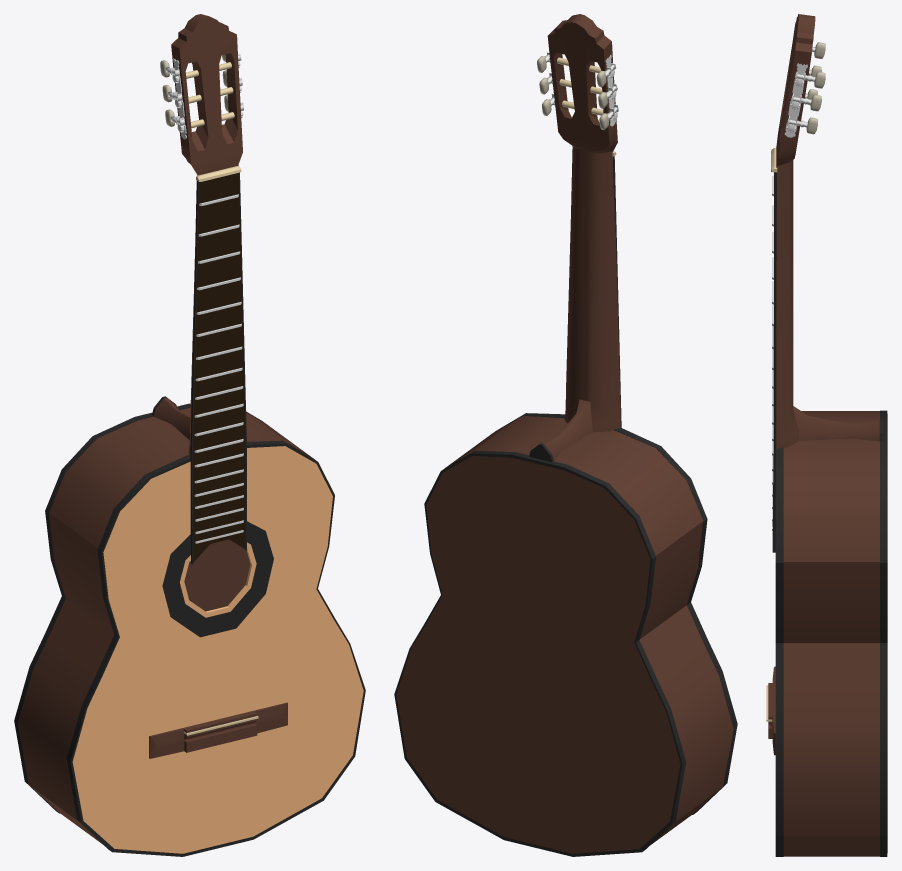
File: guitar.glb
The picture shows the model from 3 angles, left to right: view 1: azimuth 30°, elevation 25°; view 2: azimuth 150°, elevation 25°; view 3: azimuth 270°, elevation 25°; orthographic projection. The views are drawn at different scales.
Visible parts, largest first — view 1: soundBoard.001, side.001, touch.001, neck.001, frontSeal.001, rose.001, back.001, bridge.001, frets.001, backSeal.001, seal.001; view 2: back.001, side.001, neck.001, backSeal.001, frontSeal.001; view 3: side.001, neck.001, frontSeal.001, backSeal.001, seal.001, frets.001, bridge.001, Plane.001, back.001, Cube.001, Cube.002, Cube.003.
Boxes of the visible parts, x1,y1,x2,y2 form: soundBoard.001: (72, 446, 363, 853); side.001: (18, 407, 312, 844); touch.001: (192, 173, 245, 561); neck.001: (153, 14, 242, 457); frontSeal.001: (66, 440, 365, 856); rose.001: (162, 521, 273, 637); back.001: (184, 539, 250, 611); bridge.001: (149, 702, 287, 758); frets.001: (194, 194, 243, 543); backSeal.001: (14, 403, 262, 813); seal.001: (190, 172, 246, 564); back.001: (396, 455, 680, 853); side.001: (445, 416, 733, 845); neck.001: (541, 14, 620, 460); backSeal.001: (394, 451, 685, 856); frontSeal.001: (495, 413, 737, 814); side.001: (783, 411, 879, 856); neck.001: (776, 14, 879, 448); frontSeal.001: (775, 447, 783, 856); backSeal.001: (880, 410, 887, 856); seal.001: (772, 172, 776, 552); frets.001: (772, 175, 773, 530); bridge.001: (768, 666, 775, 755); Plane.001: (784, 63, 807, 137); back.001: (887, 414, 887, 852); Cube.001: (795, 72, 825, 88); Cube.002: (791, 94, 821, 111); Cube.003: (787, 117, 817, 134).
Bounding box in the file's own units: 0.3137 × 0.8339 × 0.1126.
